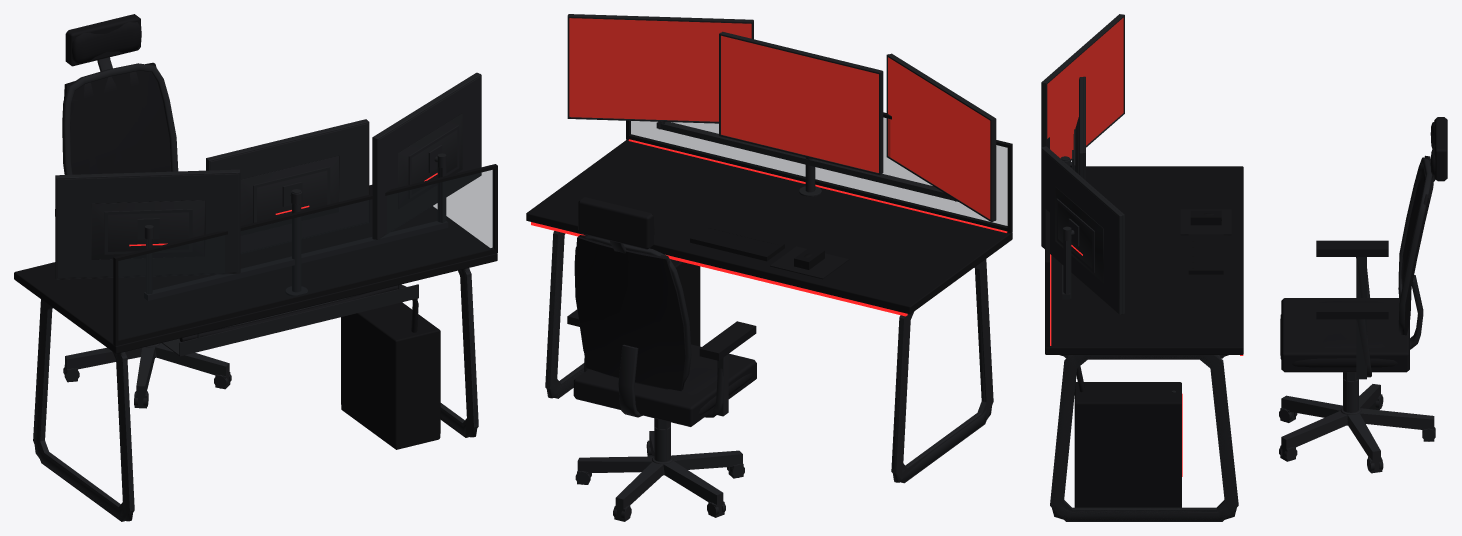
The model's file is workstation.glb.
3 views of the same model, side by side, from view 1: azimuth 30°, elevation 25°; view 2: azimuth 150°, elevation 25°; view 3: azimuth 270°, elevation 25° (orthographic). The views are drawn at different scales.
Visible parts, largest first — view 1: ws_metal, ws_glass, ws_lod1_desk, ws_desk, ws_lod1_metal, ws_lod1_chair, ws_chair; view 2: ws_lod1_desk, ws_lod1_screen, ws_screen, ws_desk, ws_lod1_chair, ws_lod1_metal, ws_metal, ws_glass, ws_led, ws_chair; view 3: ws_desk, ws_lod1_desk, ws_metal, ws_lod1_metal, ws_lod1_chair, ws_lod1_screen, ws_chair, ws_screen.
Part boxes in pixels (x1=…): ws_metal: x1=33, y1=57, x2=481, y2=521; ws_glass: x1=118, y1=170, x2=493, y2=339; ws_lod1_desk: x1=14, y1=164, x2=497, y2=449; ws_desk: x1=14, y1=164, x2=497, y2=445; ws_lod1_metal: x1=33, y1=73, x2=481, y2=521; ws_lod1_chair: x1=55, y1=14, x2=171, y2=216; ws_chair: x1=65, y1=22, x2=418, y2=341; ws_lod1_desk: x1=528, y1=112, x2=1012, y2=345; ws_lod1_screen: x1=569, y1=18, x2=990, y2=219; ws_screen: x1=569, y1=21, x2=916, y2=172; ws_desk: x1=526, y1=115, x2=1012, y2=346; ws_lod1_chair: x1=567, y1=197, x2=849, y2=426; ws_lod1_metal: x1=545, y1=14, x2=996, y2=521; ws_metal: x1=546, y1=15, x2=993, y2=520; ws_glass: x1=630, y1=118, x2=1007, y2=226; ws_led: x1=531, y1=139, x2=1007, y2=316; ws_chair: x1=579, y1=224, x2=847, y2=415; ws_desk: x1=1045, y1=137, x2=1243, y2=504; ws_lod1_desk: x1=1045, y1=137, x2=1242, y2=507; ws_metal: x1=1041, y1=14, x2=1435, y2=520; ws_lod1_metal: x1=1041, y1=14, x2=1434, y2=521; ws_lod1_chair: x1=1180, y1=117, x2=1447, y2=372; ws_lod1_screen: x1=1066, y1=17, x2=1123, y2=158; ws_chair: x1=1076, y1=122, x2=1435, y2=392; ws_screen: x1=1047, y1=43, x2=1111, y2=158.
Size of the model in its own units: 1.78 by 1.33 by 1.52.
